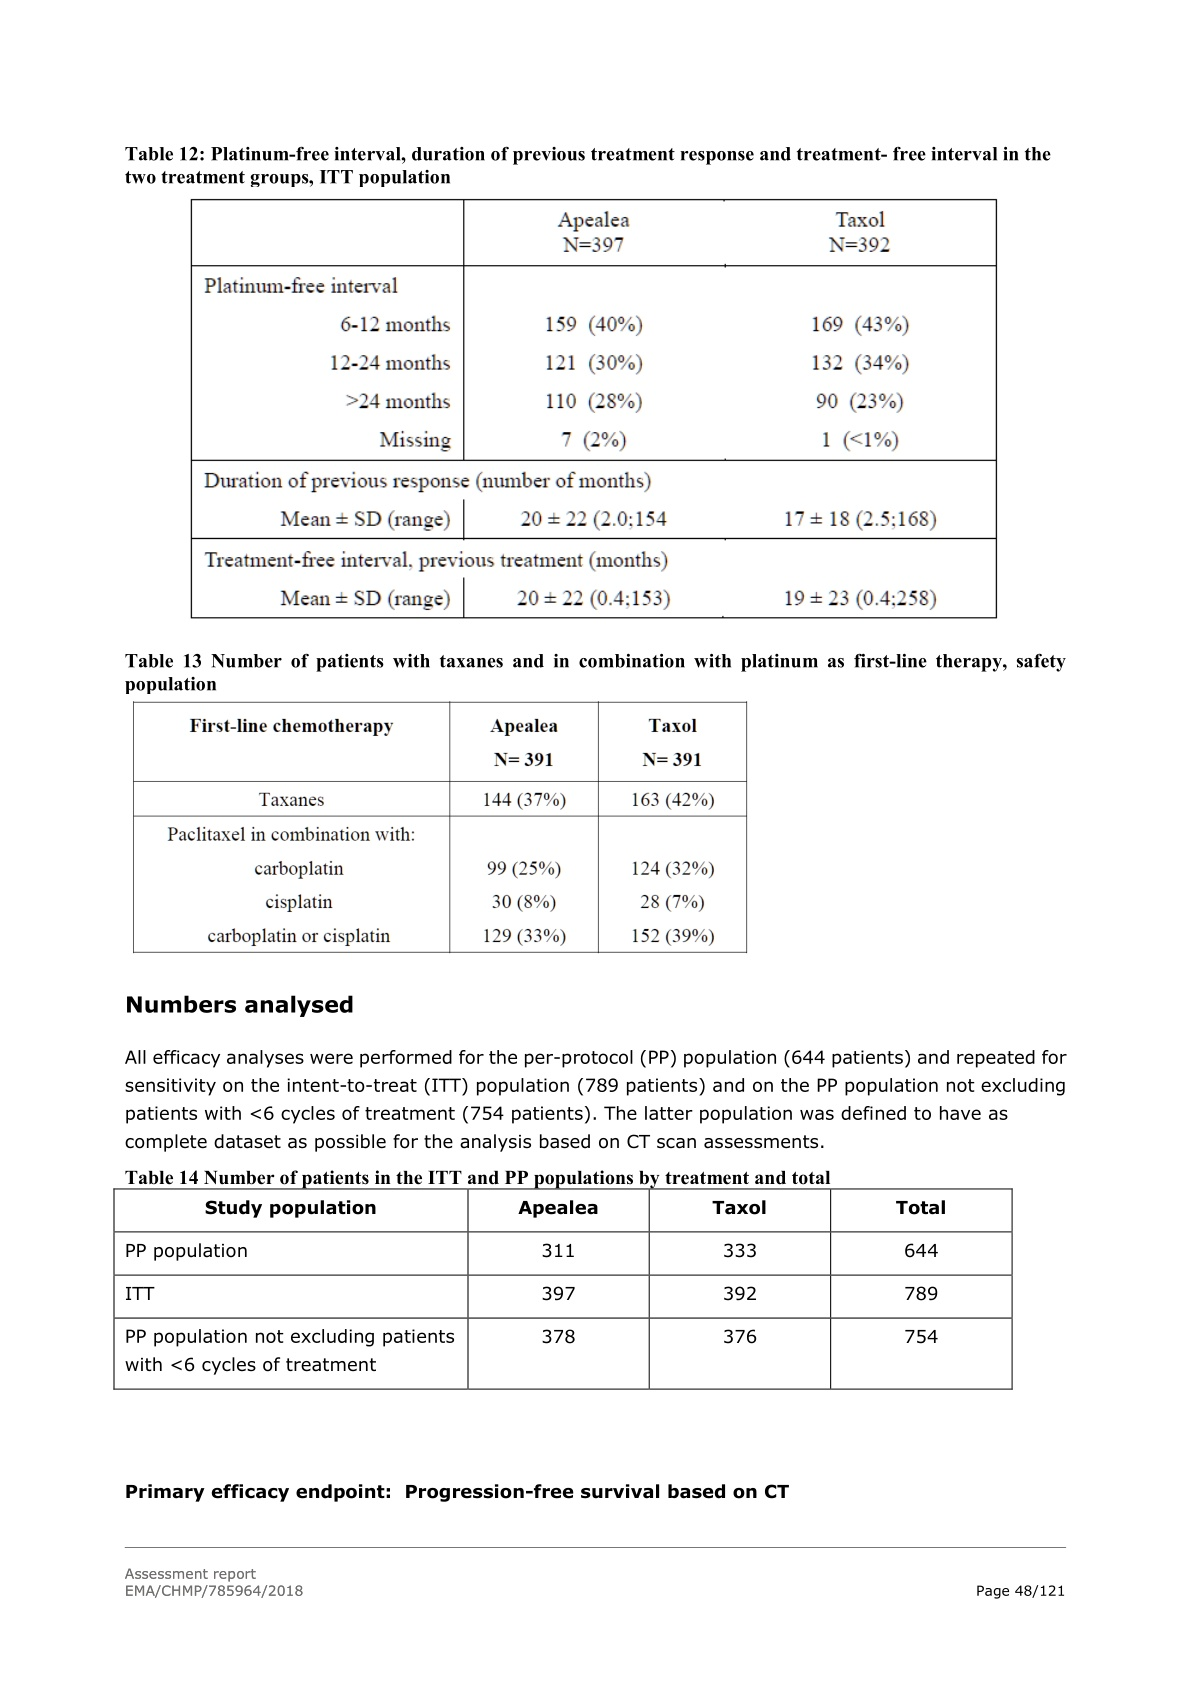full_lined: (189, 197, 998, 620), (112, 1187, 1013, 1392), (131, 701, 748, 953)
